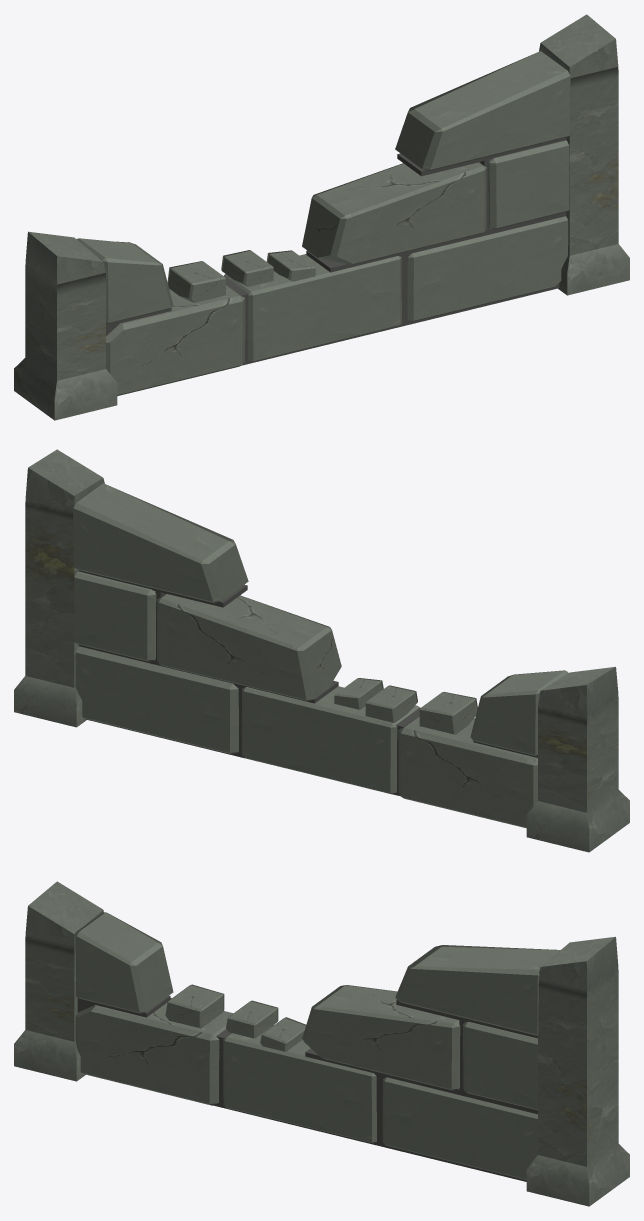
Rendered from Wall001BROKEN_002.fbx.
The picture shows the model from 3 angles, top to bottom: view 1: azimuth 30°, elevation 25°; view 2: azimuth 150°, elevation 25°; view 3: azimuth 330°, elevation 25°; orthographic projection.
Parts seen in each view (by area): view 1: Wall001BROKEN_002; view 2: Wall001BROKEN_002; view 3: Wall001BROKEN_002.
Part boxes in pixels (x1=…): Wall001BROKEN_002: x1=14, y1=14, x2=629, y2=420; Wall001BROKEN_002: x1=14, y1=449, x2=629, y2=852; Wall001BROKEN_002: x1=14, y1=881, x2=629, y2=1206.
Bounding box in the file's own units: 104 × 41.91 × 12.74.
5 materials, 4 textured.
